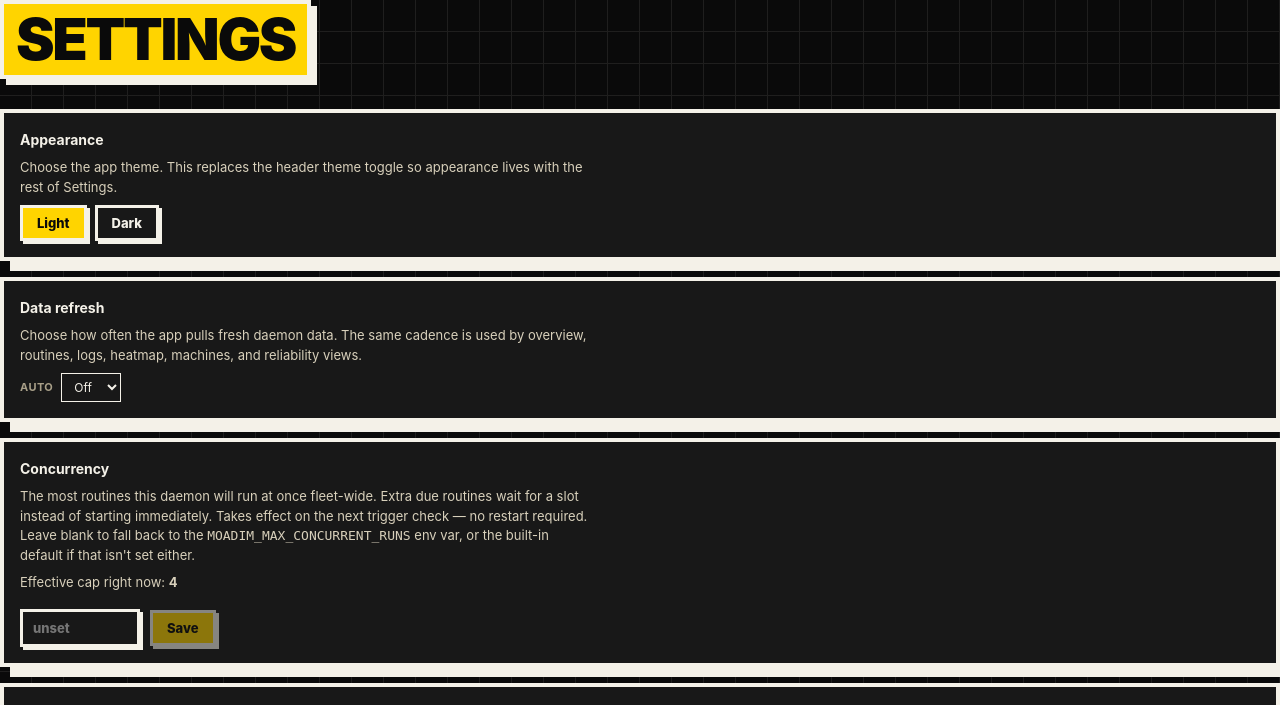
Test: SettingsPage › concurrency cap › disables save until the override is edited, and rejects non-numeric input
Expected: the button "Save" is disabled, top-left (150, 610), bottom-right (216, 646)
Type "-1" into the number field named "Max concurrent runs override" at x=80, y=628, box top-left (20, 609), bottom-right (140, 647)
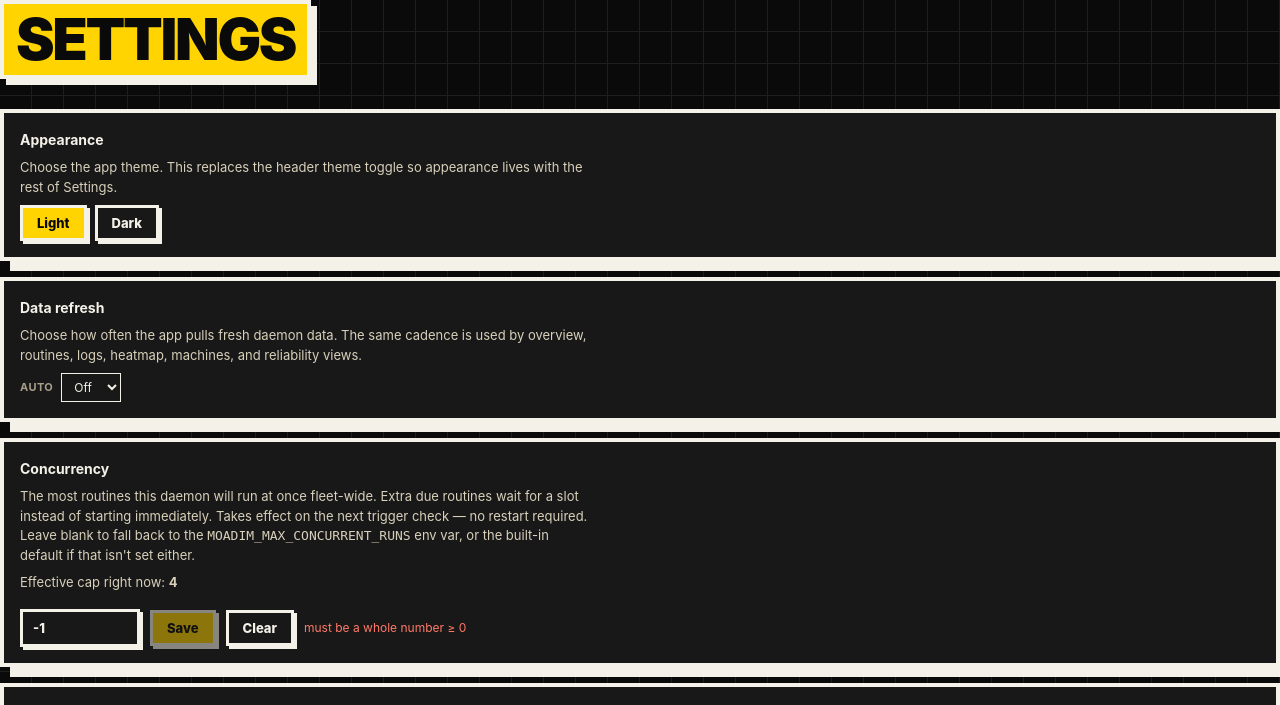
Expected: the button "Save" is disabled, top-left (150, 610), bottom-right (216, 646)
Expected: the text "must be a whole number ≥ 0" is shown, top-left (304, 619), bottom-right (466, 637)
Replace the text in the number field named "Max concurrent runs override" with "8" at x=80, y=628, box top-left (20, 609), bottom-right (140, 647)
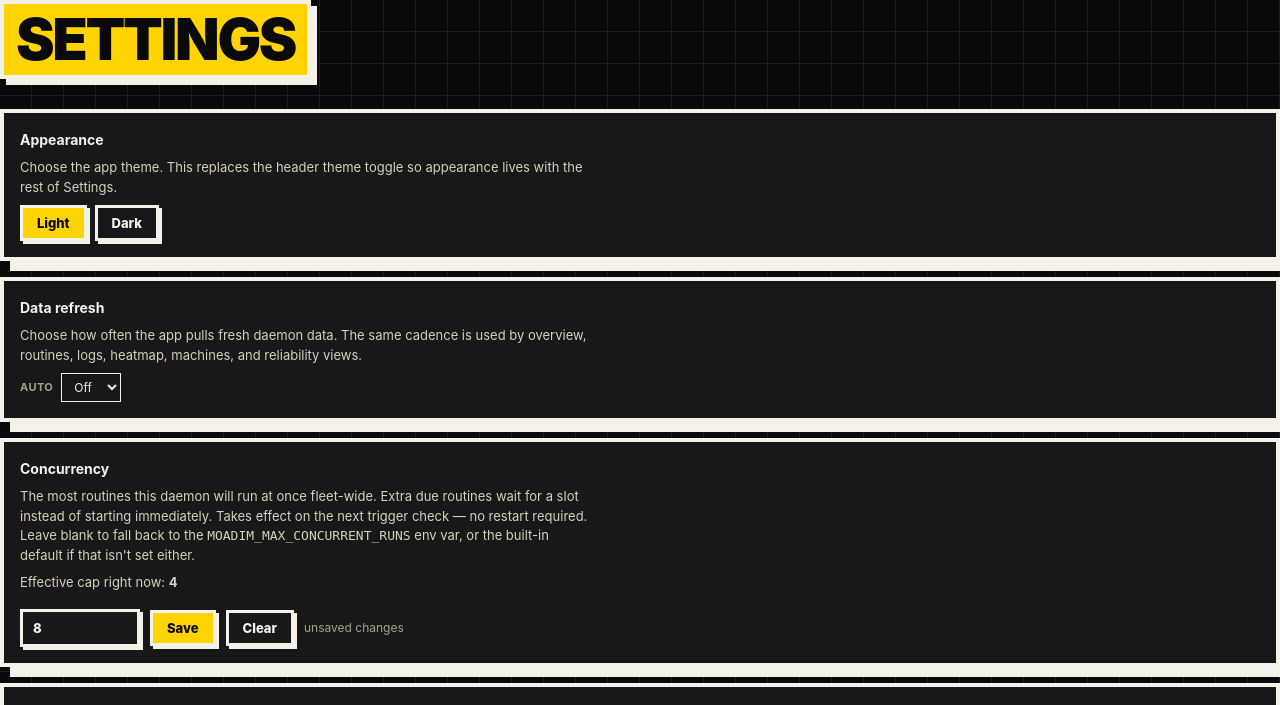
Expected: the button "Save" is enabled, top-left (150, 610), bottom-right (216, 646)
Expected: the text "unsaved changes" is shown, top-left (304, 619), bottom-right (404, 637)
